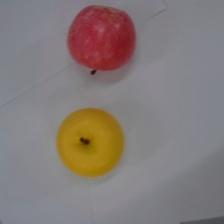red: (66, 3, 137, 73)
yellow: (56, 107, 125, 178)
